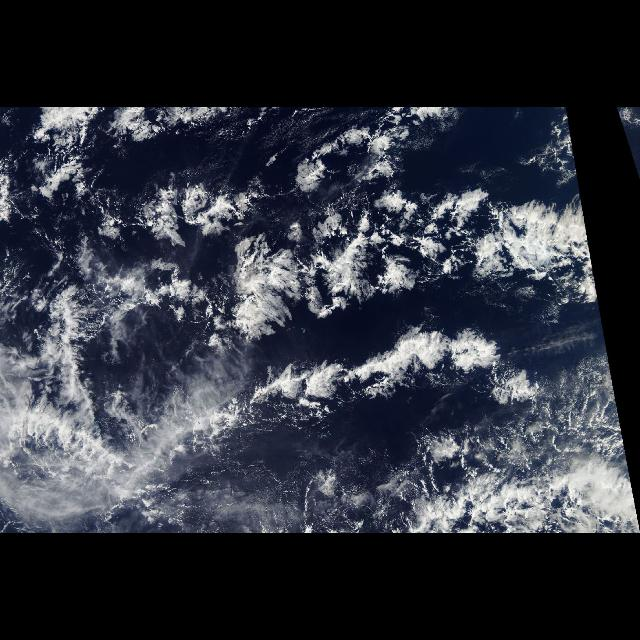Fish: (114, 168, 602, 460)
